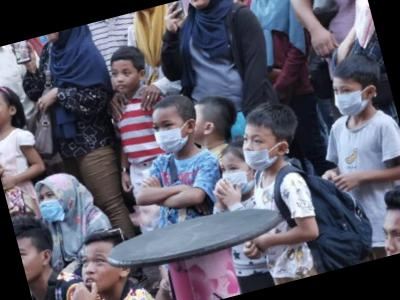mask_weared_incorrect: (237, 124, 284, 175)
with_mask: (328, 75, 372, 120), (150, 113, 193, 158), (218, 156, 258, 200), (34, 186, 68, 225)
without_mask: (74, 245, 128, 297), (109, 61, 142, 95), (378, 213, 400, 257)
